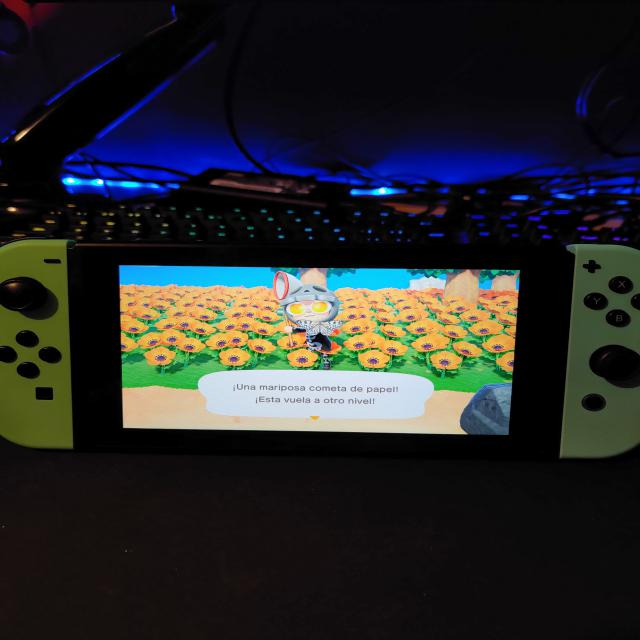text_bubble: (198, 369, 437, 423)
